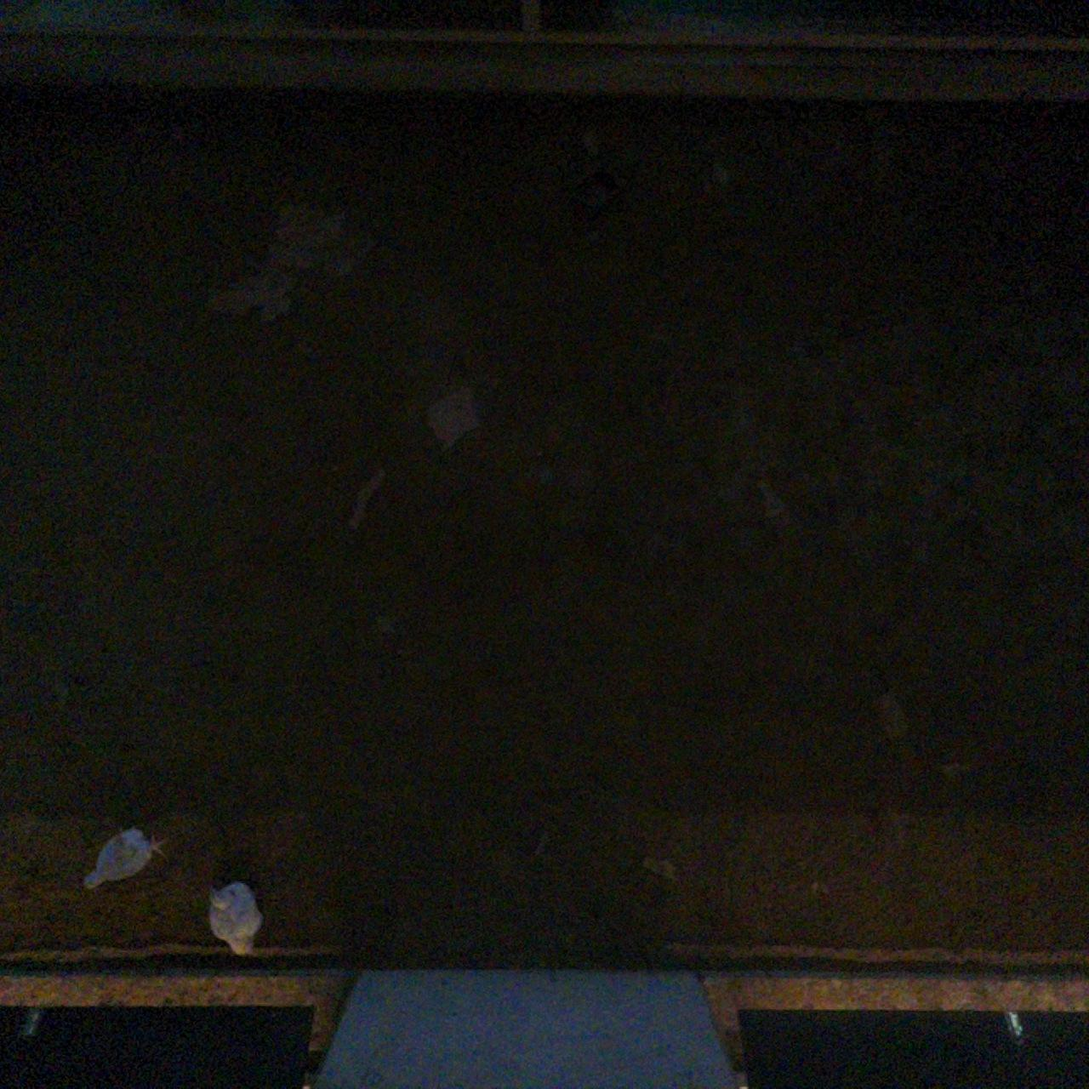chicken: (78, 824, 176, 899), (199, 871, 269, 960)
